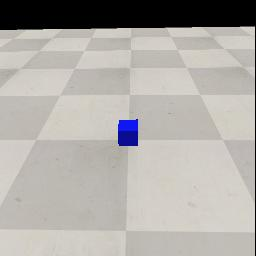box: (118, 119, 138, 146)
